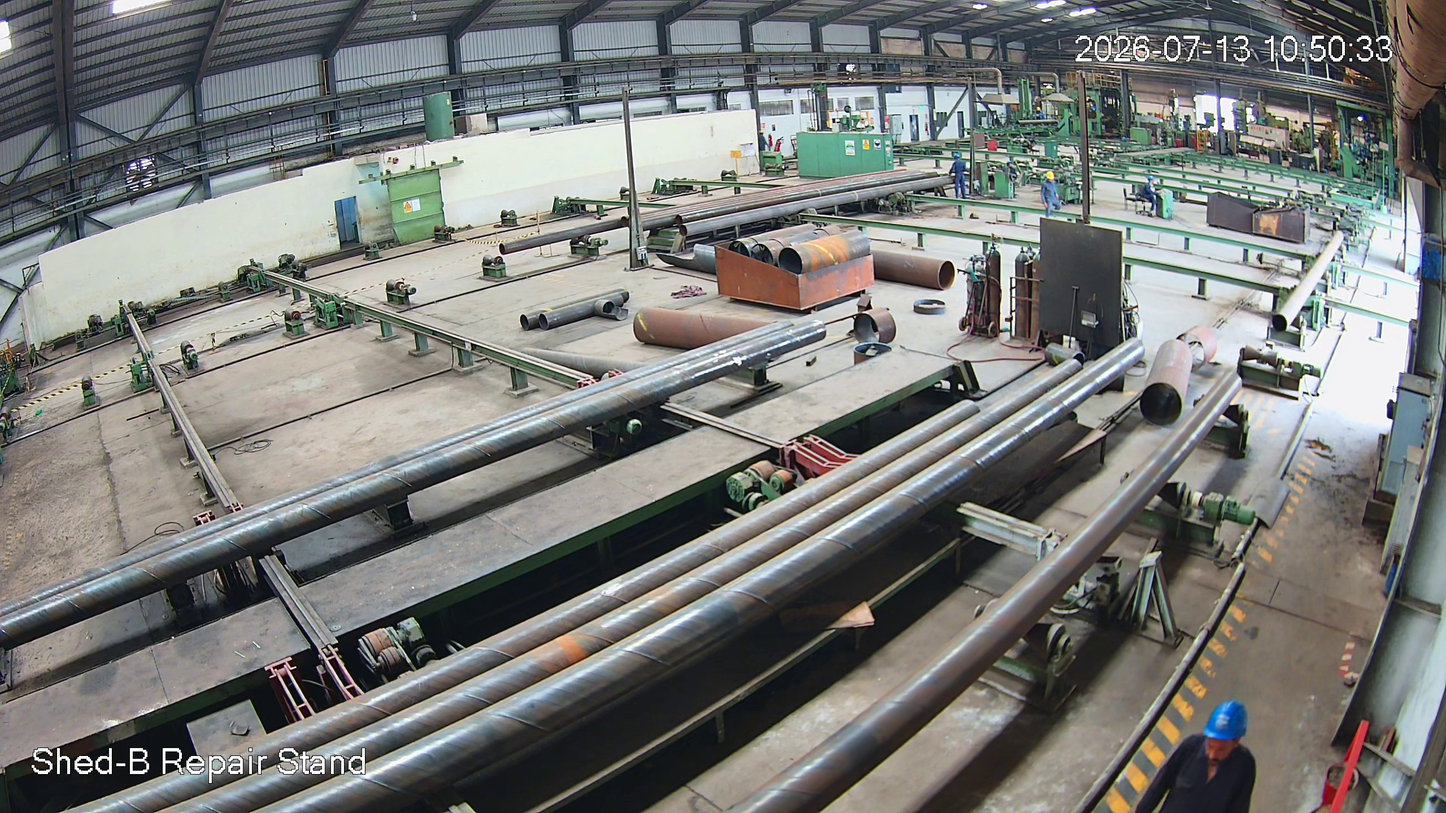Helmet: (1044, 171, 1056, 184)
Person: (1041, 173, 1060, 218)
